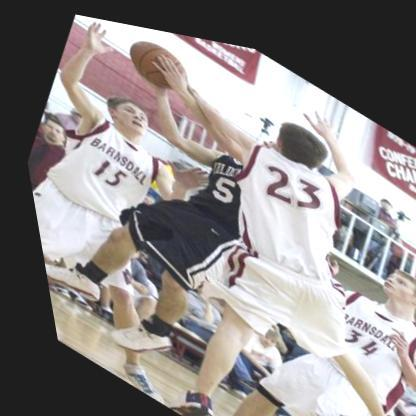basketball: (117, 23, 197, 100)
